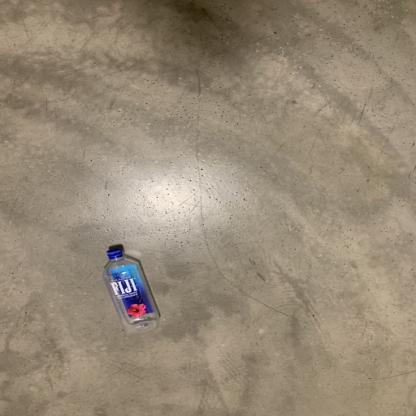trash: (103, 244, 166, 337)
